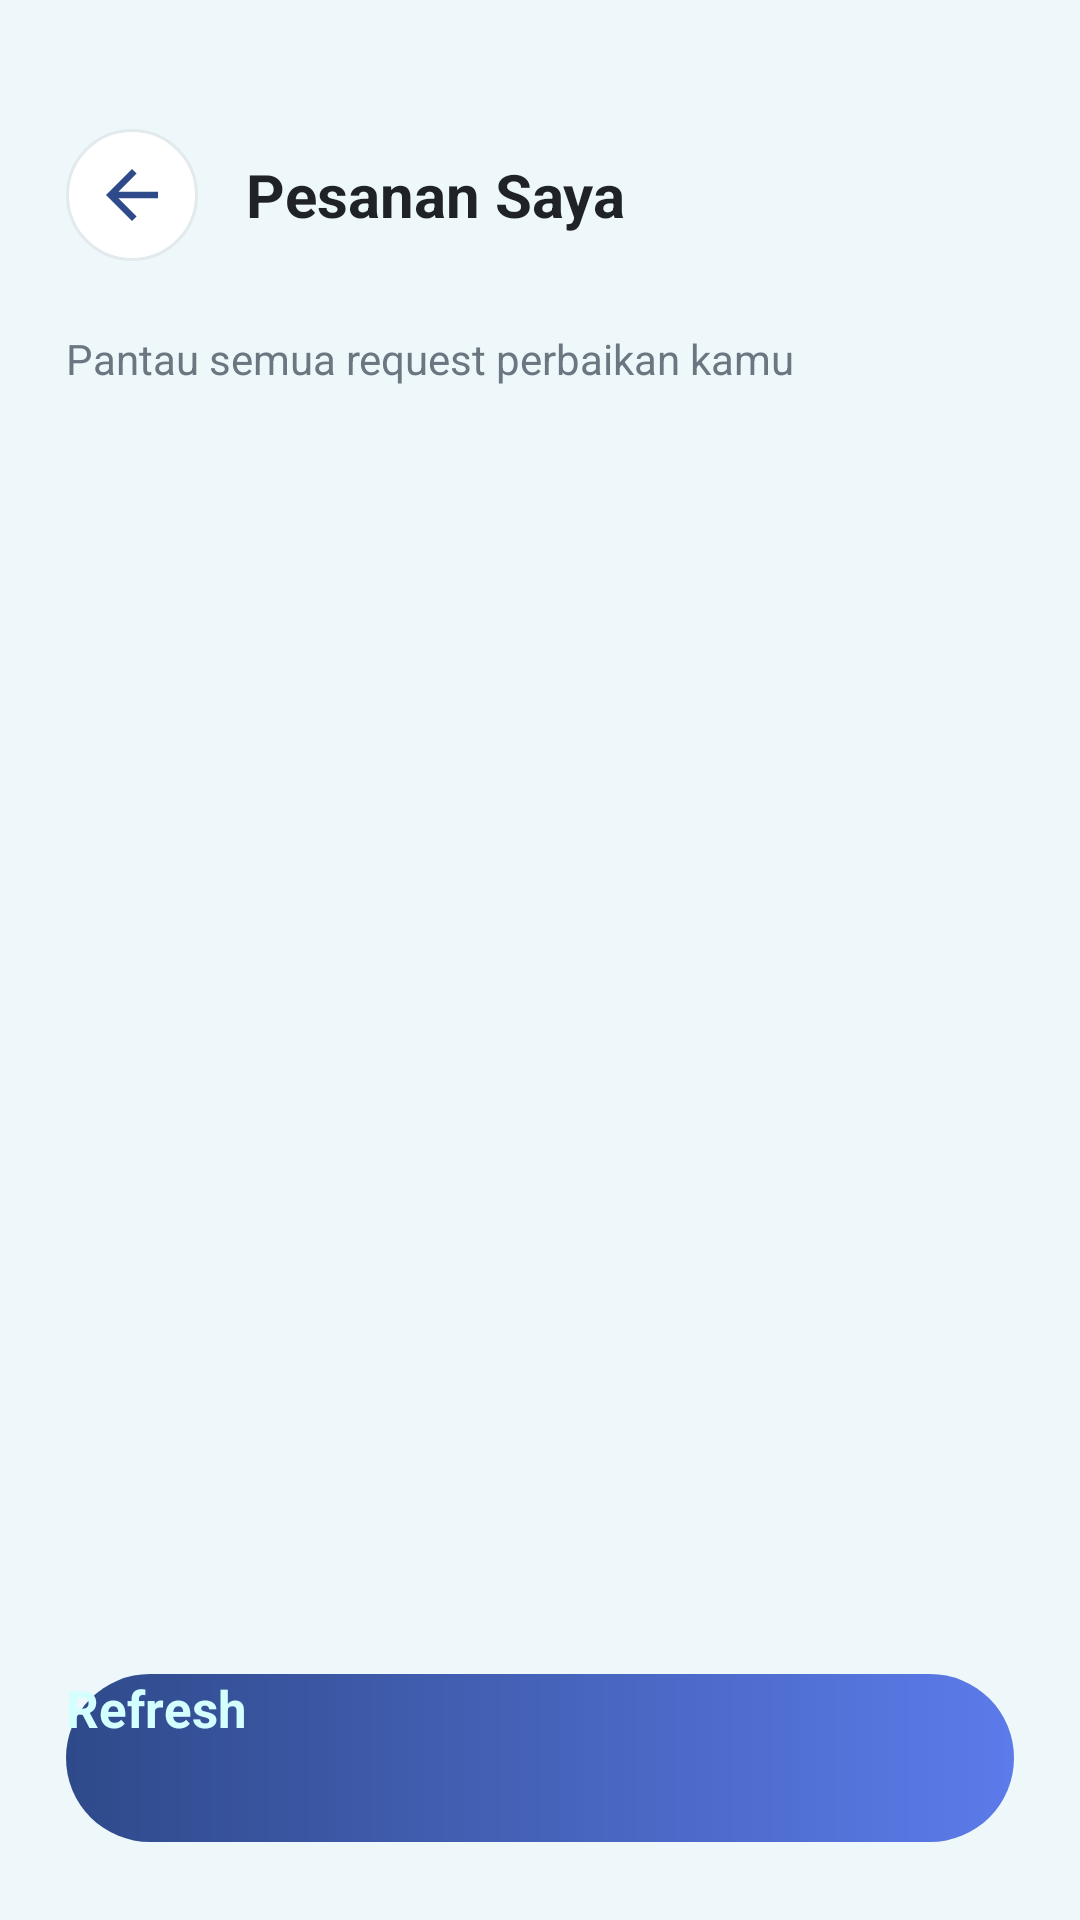

Where icons sit on this 1080*1920 app screen, as (x1, y1, x2, y2):
back: (106, 169, 158, 221)
